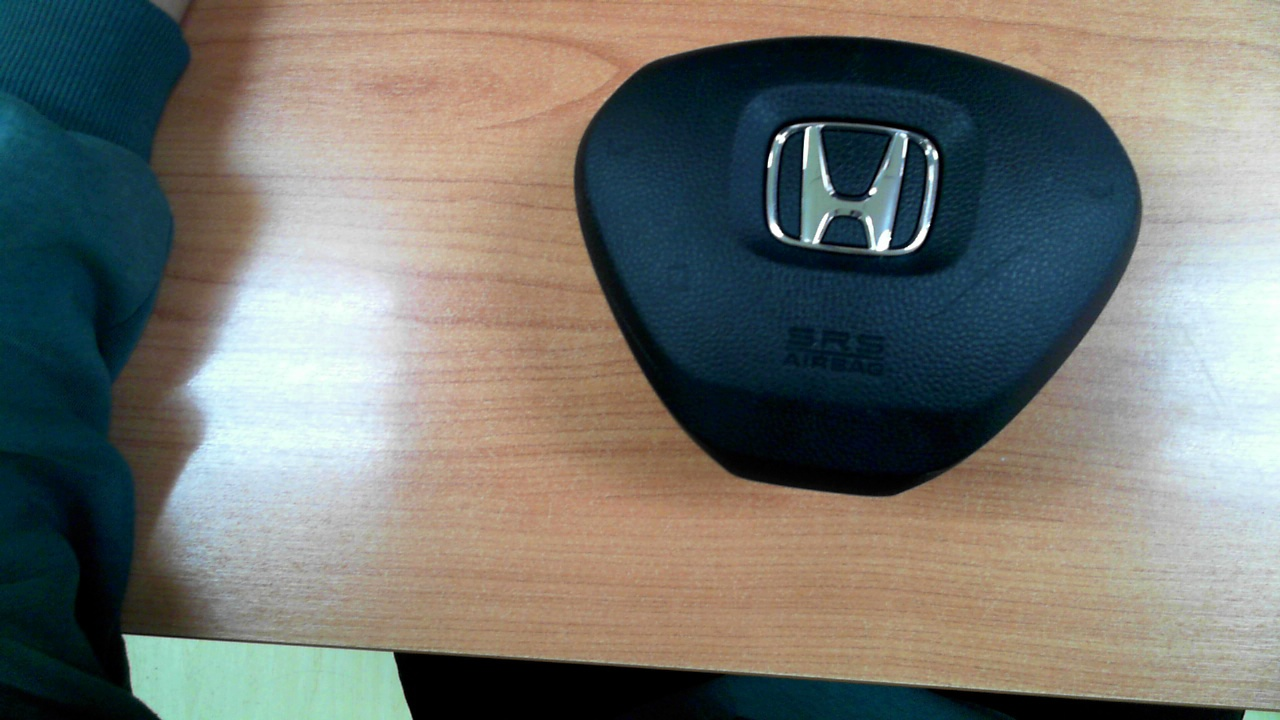Airbag: (573, 35, 1143, 497)
Honda: (765, 121, 940, 256)
